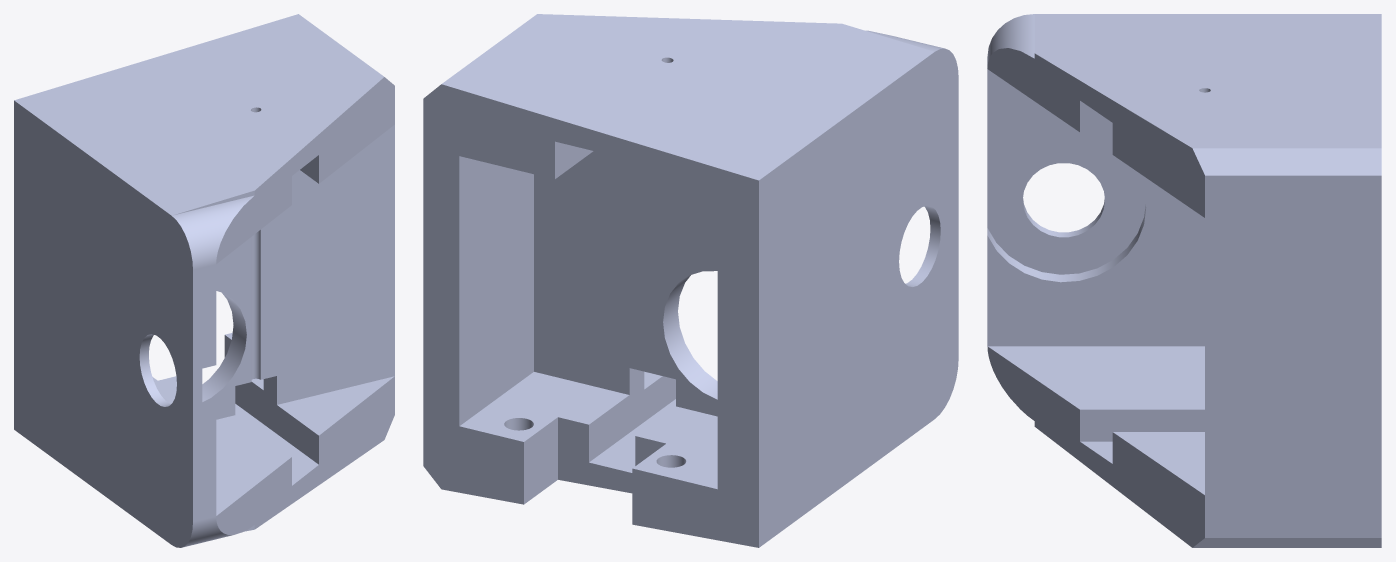
The model's file is bodyExtention.glb.
3 renders of one model, left to right at view 1: azimuth 30°, elevation 25°; view 2: azimuth 150°, elevation 25°; view 3: azimuth 270°, elevation 25°, orthographic. The views are drawn at different scales.
Visible parts, largest first — view 1: bodyExtention; view 2: bodyExtention; view 3: bodyExtention.
Part boxes in pixels (bbox=[...]): bodyExtention: bbox=[14, 14, 394, 547]; bodyExtention: bbox=[423, 14, 958, 547]; bodyExtention: bbox=[987, 14, 1381, 547].
Bounding box in the file's own units: 0.0325 × 0.0375 × 0.0335.
